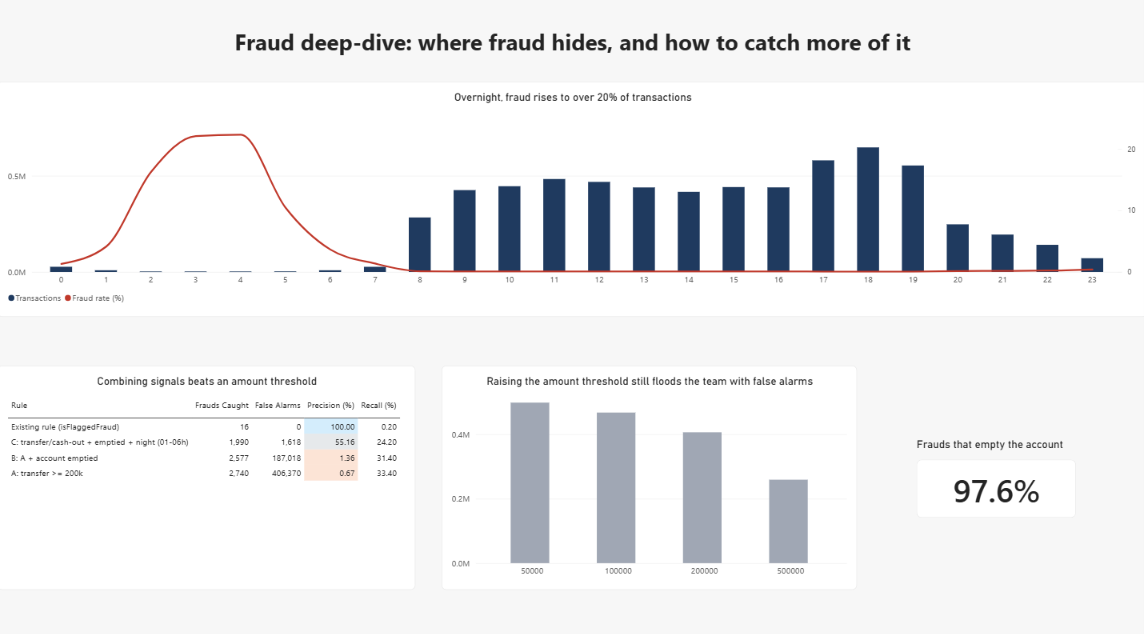

Layout of this report page (visuals, bound fields, positions):
{"tool":"powerbi","page":{"name":"Fraud deep-dive","canvas":[1920,1080],"ordinal":1},"visuals":[{"type":"lineClusteredColumnComboChart","title":"Overnight, fraud rises to over 20% of transactions","fields":{"Category":["04_fraud_by_hour_of_day.hour_of_day"],"Y":["Sum(04_fraud_by_hour_of_day.txns)"],"Y2":["Sum(04_fraud_by_hour_of_day.fraud_rate_pct)"]},"box":[0,146.6,1920.1,392.7],"z":0},{"type":"tableEx","title":"Combining signals beats an amount threshold","fields":{"Values":["07_combined_rule_test.rule","07_combined_rule_test.frauds_caught","07_combined_rule_test.false_alarms","07_combined_rule_test.precision_pct","07_combined_rule_test.recall_pct"]},"box":[0,621.6,697.8,374.6],"z":1},{"type":"clusteredColumnChart","title":"Raising the amount threshold still floods the team with false alarms","fields":{"Category":["05_rule_threshold_test.threshold"],"Y":["Sum(05_rule_threshold_test.false_alarms)"]},"box":[741,621.6,693.7,374.6],"z":2},{"type":"cardVisual","title":"Frauds that empty the account","fields":{"Data":["_Measures.Fraud Emptied %"]},"box":[1534.6,742,266,133.9],"z":3},{"type":"textbox","box":[0,36.2,1920.1,85.1],"z":4}]}

Visuals, with their boxes in screenshot pixels (x1, y1, x2, y2), scaled from the page's 1920x1080 canvas onto the 1144x634 screenshot:
"Overnight, fraud rises to over 20% of transactions" lineClusteredColumnComboChart: 0/86/1143/317
"Combining signals beats an amount threshold" tableEx: 0/365/416/585
"Raising the amount threshold still floods the team with false alarms" clusteredColumnChart: 442/365/855/585
"Frauds that empty the account" cardVisual: 914/436/1073/514
textbox: 0/21/1143/71
